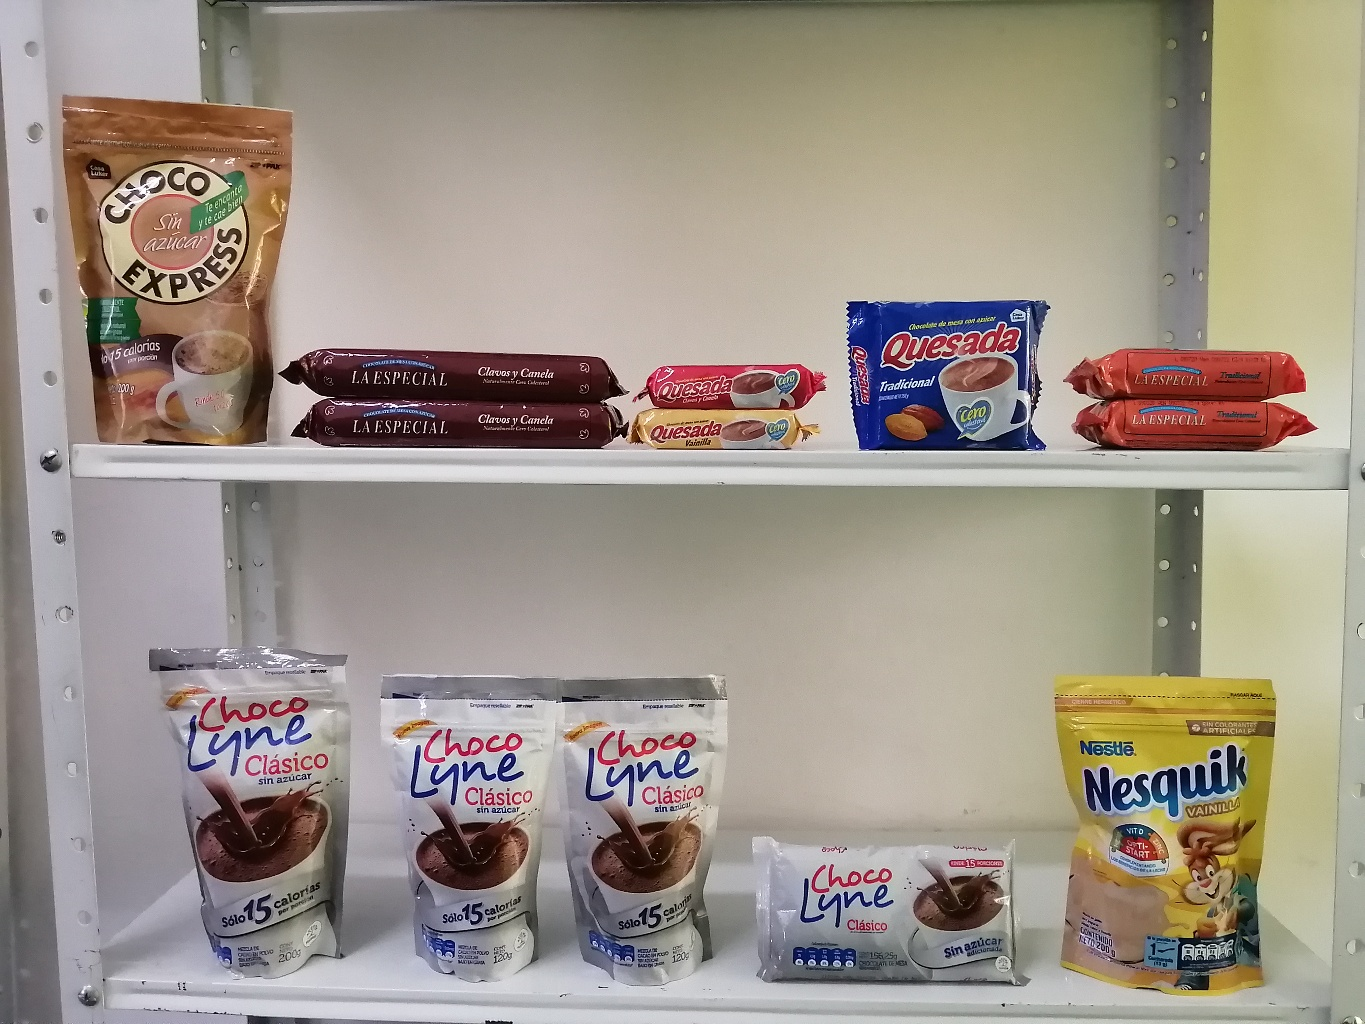COL0170306DYP20000: (1052, 673, 1297, 1014)
